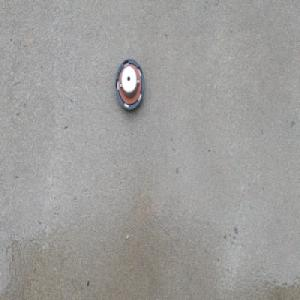FuelCap: (114, 57, 145, 111)
